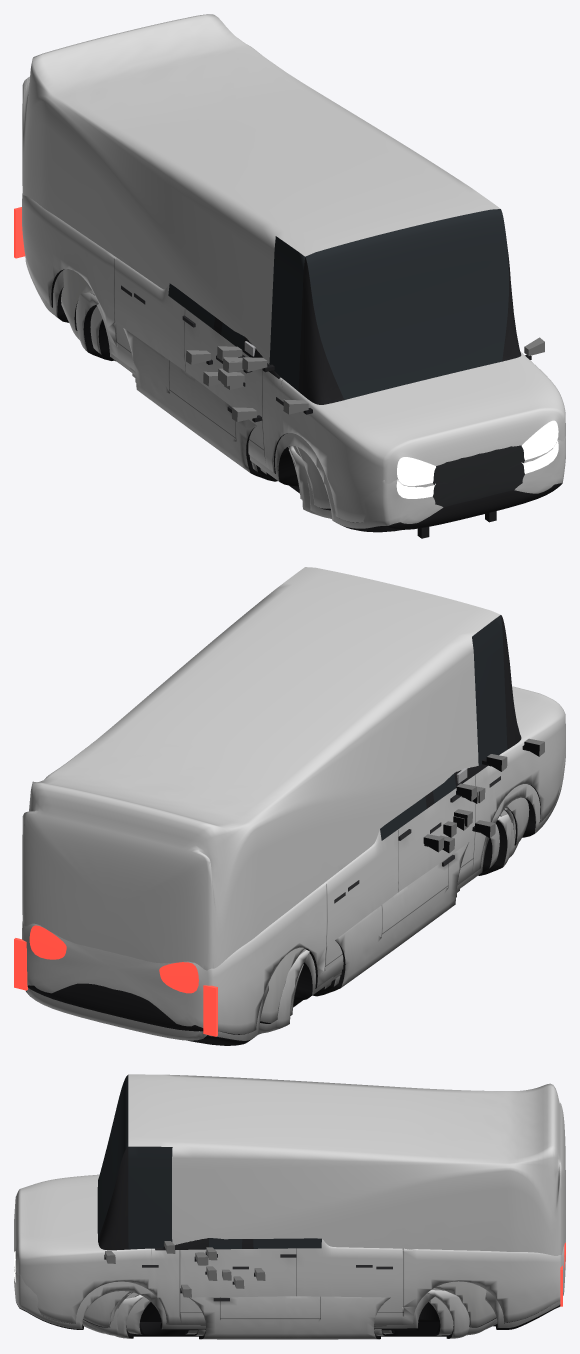
Rendered from cars.glb.
The picture shows the model from 3 angles, top to bottom: view 1: azimuth 30°, elevation 25°; view 2: azimuth 150°, elevation 25°; view 3: azimuth 270°, elevation 25°; orthographic projection. The views are drawn at different scales.
Parts seen in each view (by area): view 1: car_van_body, car_pickup_body, car_van_glass, car_super_body, car_policeSuv_body, car_pickup_heads, car_coupe_body, car_pickup_glass, car_van_heads, car_muscle_body; view 2: car_van_body, car_pickup_body, car_super_body, car_van_glass, car_policeSuv_body, car_pickup_tails, car_van_tails, car_pickup_glass, car_coupe_body, car_muscle_body; view 3: car_van_body, car_pickup_body, car_super_body, car_van_glass, car_policeSuv_body, car_coupe_body, car_pickup_glass, car_muscle_body, car_police_body.
Part boxes in pixels (left/top/right/bottom): car_van_body: left=22, top=14, right=565, bottom=532; car_pickup_body: left=22, top=193, right=565, bottom=522; car_van_glass: left=269, top=209, right=508, bottom=399; car_super_body: left=76, top=292, right=328, bottom=518; car_policeSuv_body: left=61, top=269, right=330, bottom=510; car_pickup_heads: left=397, top=420, right=558, bottom=485; car_coupe_body: left=90, top=306, right=302, bottom=499; car_pickup_glass: left=168, top=283, right=244, bottom=351; car_van_heads: left=396, top=440, right=558, bottom=498; car_muscle_body: left=70, top=325, right=331, bottom=518; car_van_body: left=22, top=567, right=565, bottom=1045; car_pickup_body: left=22, top=686, right=565, bottom=1034; car_super_body: left=263, top=814, right=511, bottom=1033; car_van_glass: left=472, top=615, right=507, bottom=765; car_policeSuv_body: left=260, top=768, right=529, bottom=1023; car_pickup_tails: left=29, top=925, right=198, bottom=993; car_van_tails: left=14, top=938, right=217, bottom=1036; car_pickup_glass: left=380, top=773, right=455, bottom=840; car_coupe_body: left=290, top=824, right=499, bottom=1015; car_muscle_body: left=258, top=810, right=518, bottom=1034; car_van_body: left=14, top=1074, right=565, bottom=1330; car_pickup_body: left=14, top=1174, right=565, bottom=1325; car_super_body: left=114, top=1284, right=469, bottom=1339; car_van_glass: left=97, top=1075, right=172, bottom=1249; car_policeSuv_body: left=83, top=1252, right=496, bottom=1327; car_coupe_body: left=126, top=1276, right=453, bottom=1335; car_pickup_glass: left=209, top=1238, right=321, bottom=1249; car_muscle_body: left=86, top=1268, right=496, bottom=1335; car_police_body: left=82, top=1266, right=497, bottom=1334.
Bounding box in the file's own units: 2.46 × 2.43 × 6.02.
